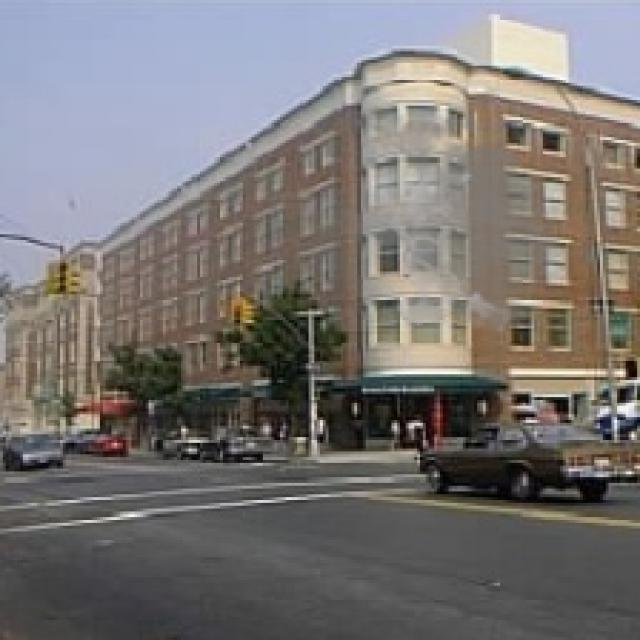smoke: (320, 100, 577, 334)
